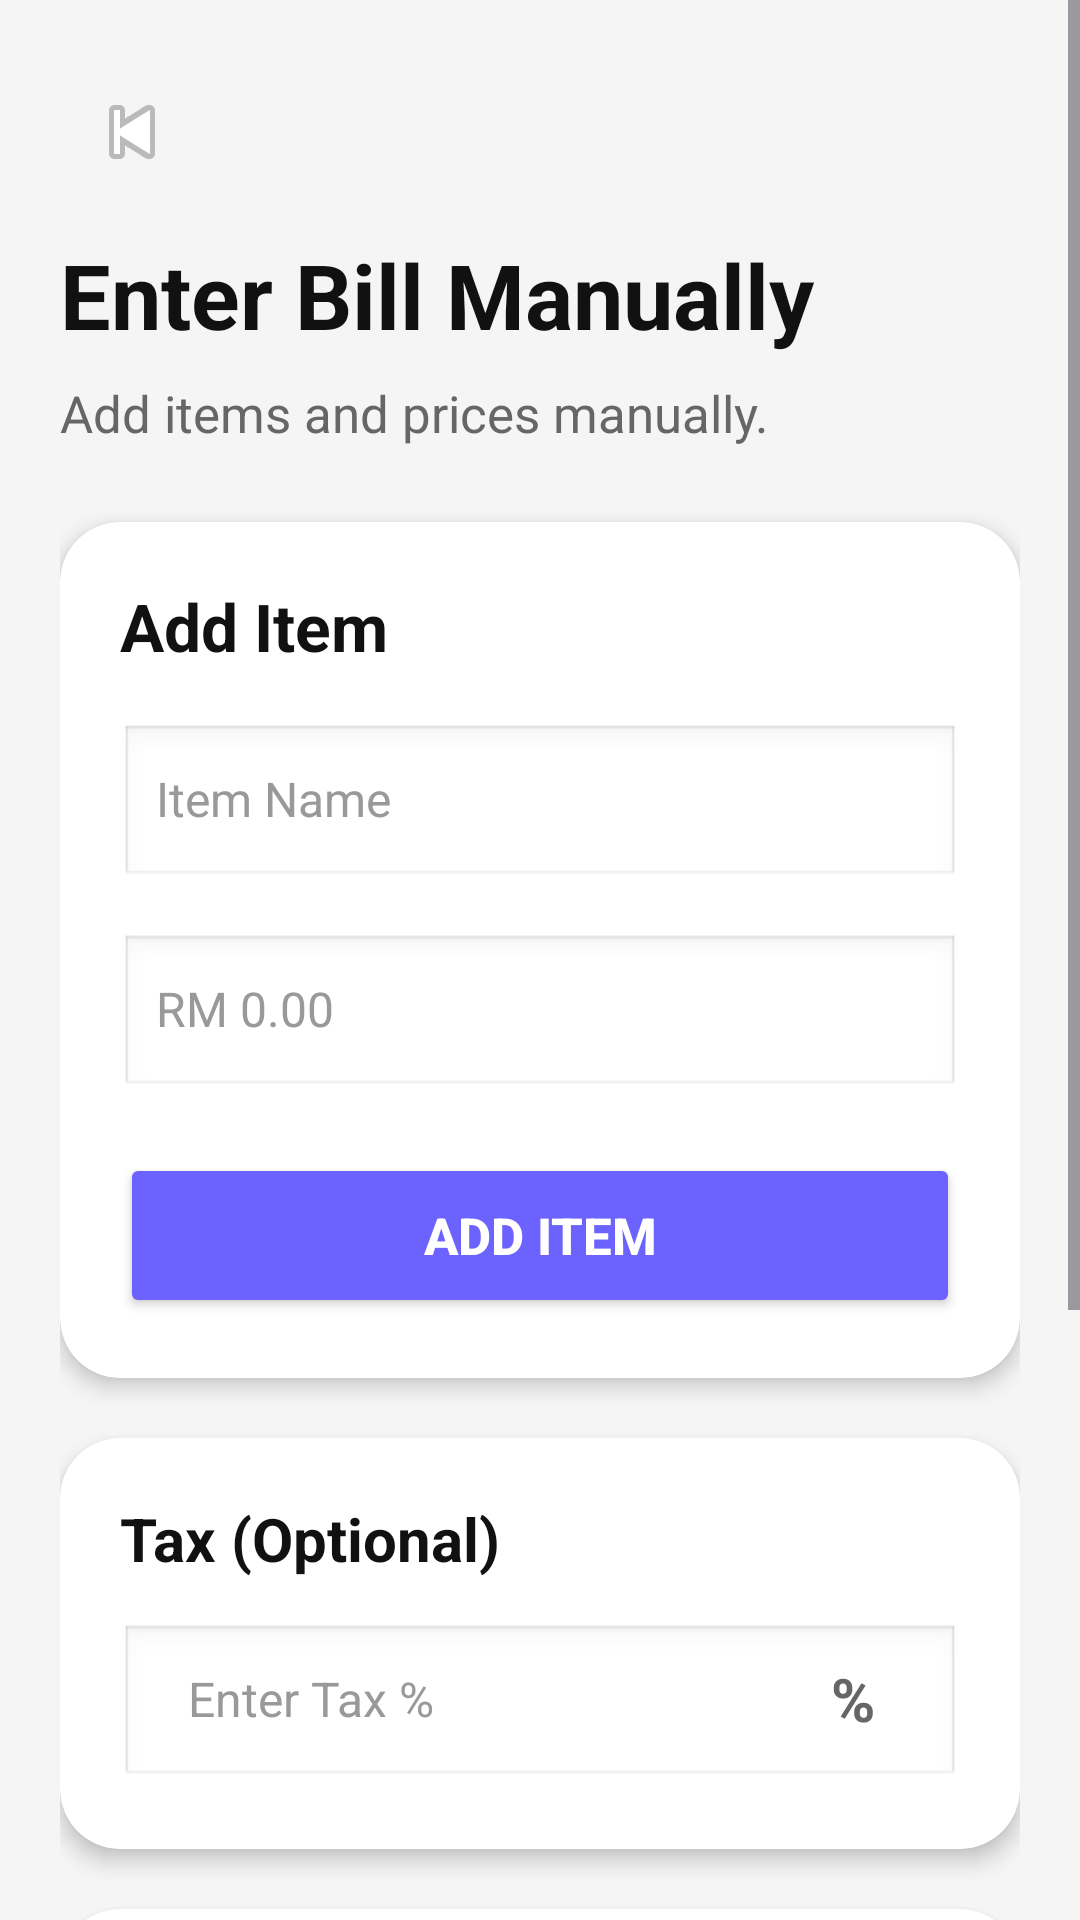

Icons on this 1080px x 1920px Android screen, each with its box as (x1, y1, x2, y2):
previous: (109, 105, 155, 159)
